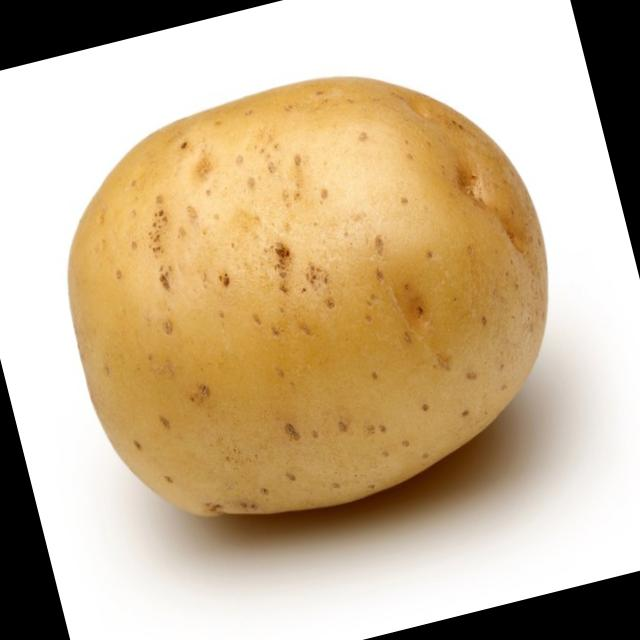potato: (27, 33, 596, 555)
